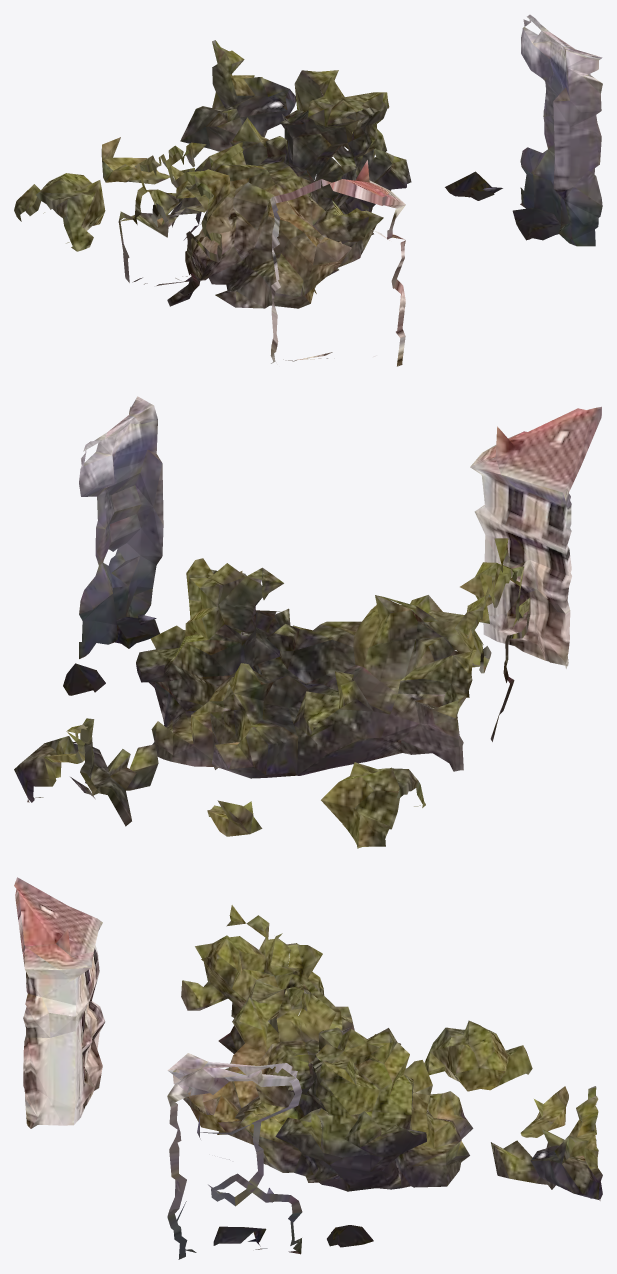
3 views of the same model, one above another, from view 1: azimuth 30°, elevation 25°; view 2: azimuth 150°, elevation 25°; view 3: azimuth 270°, elevation 25° (orthographic). The views are drawn at different scales.
Parts seen in each view (by area): view 1: Mesh_0; view 2: Mesh_0; view 3: Mesh_0.
Part boxes in pixels (bbox=[...]): Mesh_0: bbox=[14, 14, 602, 366]; Mesh_0: bbox=[14, 396, 601, 848]; Mesh_0: bbox=[14, 877, 602, 1259].
Size of the model in its own units: 32.31 by 16.41 by 40.76.
Materials: 1 (1 with a texture image).
